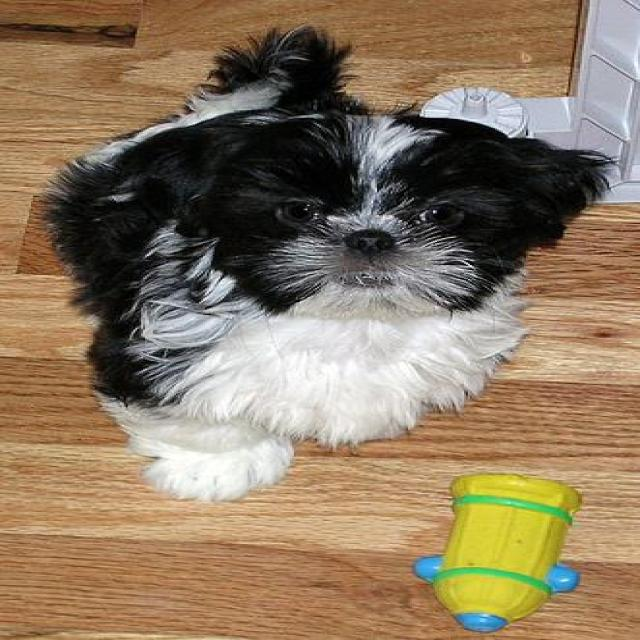shih_tzu: (35, 26, 615, 500)
